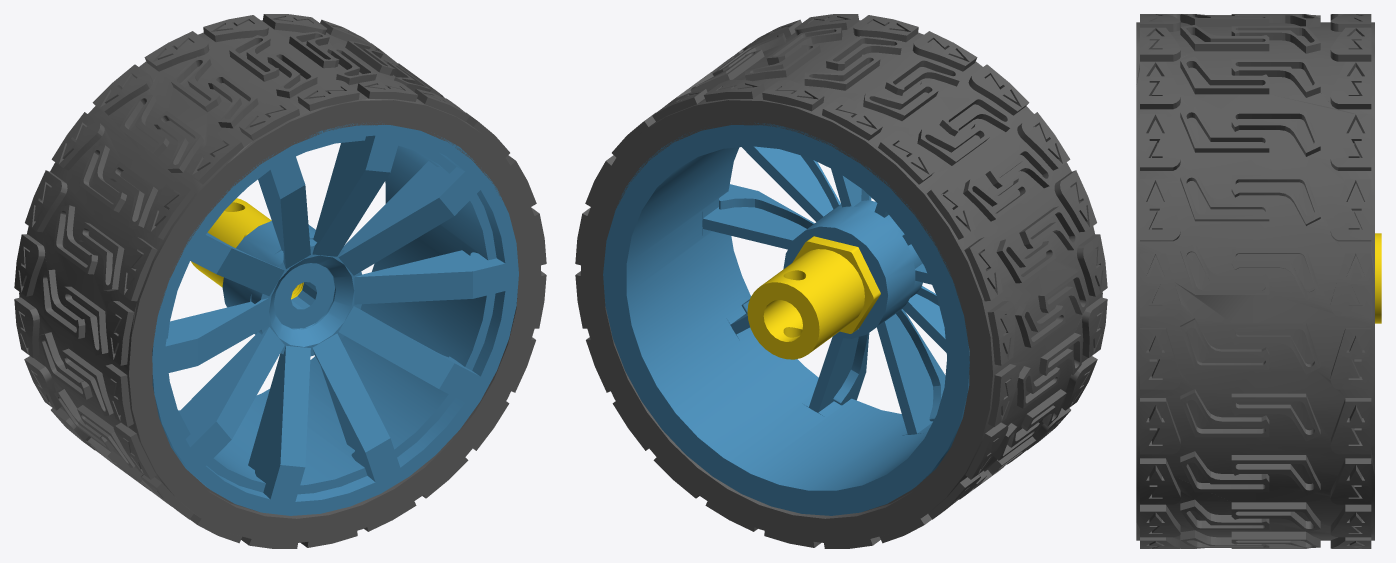
File: wheel_right_link.gltf
The picture shows the model from 3 angles, left to right: view 1: azimuth 30°, elevation 25°; view 2: azimuth 150°, elevation 25°; view 3: azimuth 270°, elevation 25°; orthographic projection. The views are drawn at different scales.
Parts seen in each view (by area): view 1: Part 3, Part 2, Part 1; view 2: Part 3, Part 2, Part 1; view 3: Part 3, Part 1.
Boxes of the visible parts, x1=… form: Part 3: x1=14, y1=14, x2=546, y2=548; Part 2: x1=152, y1=123, x2=518, y2=515; Part 1: x1=191, y1=198, x2=303, y2=299; Part 3: x1=575, y1=14, x2=1107, y2=548; Part 2: x1=603, y1=122, x2=969, y2=515; Part 1: x1=747, y1=236, x2=880, y2=359; Part 3: x1=1136, y1=14, x2=1374, y2=548; Part 1: x1=1375, y1=233, x2=1381, y2=323.
Size of the model in its own units: 0.065 by 0.065 by 0.0298.
